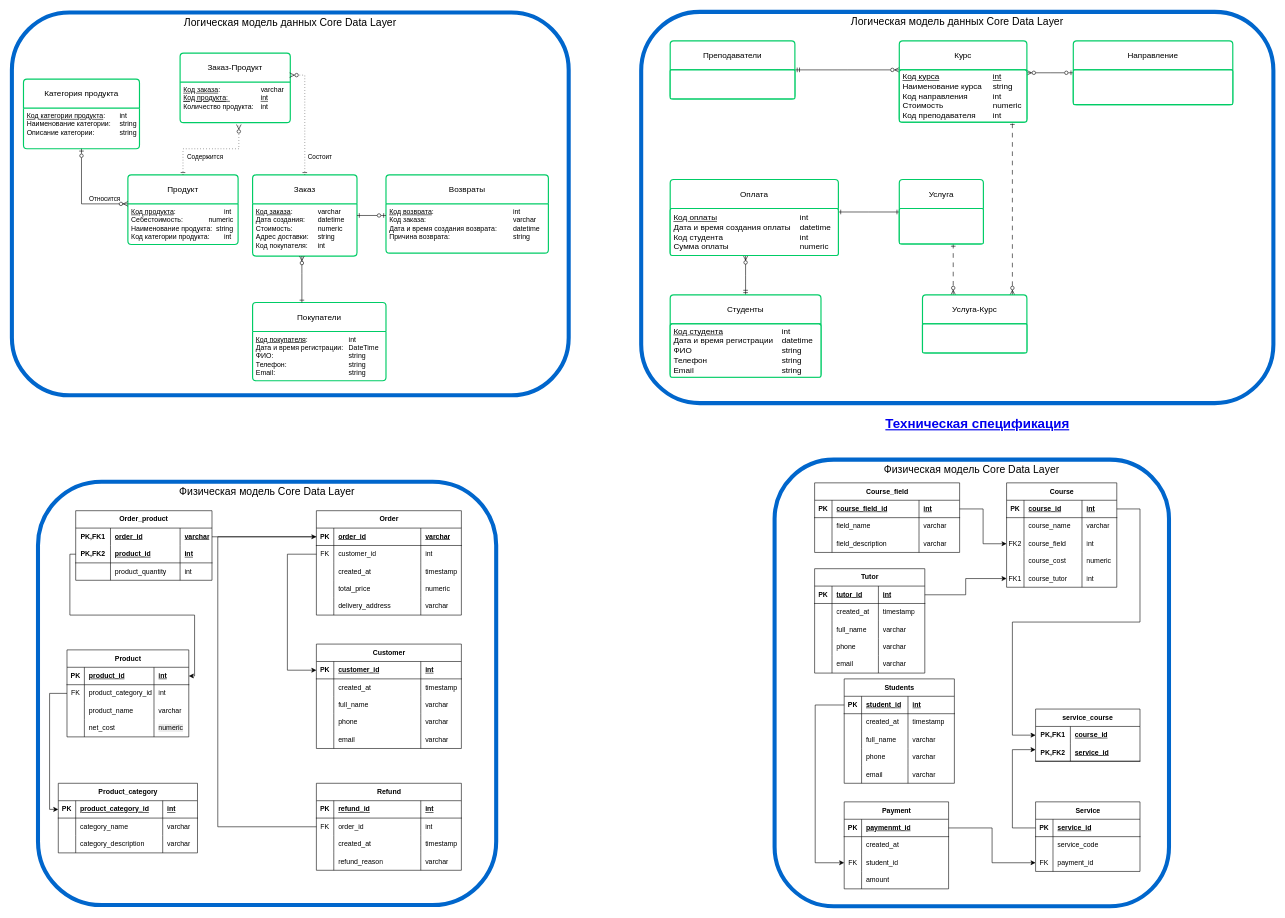
Some shapes in this 1285 by 918 pixel diagram are drawn without their labels. The shapes that lost their labels are listed below. From the top down, each one's centre as x and y in pixels, then its label:
At (x=732, y=84): "Код преподавателя int ФИО string".
At (x=1152, y=87): "Код направления int Наименование направления string Описание направления string".
At (x=941, y=226): "ID услуги int Код услуги string Код оплаты int".
At (x=974, y=338): "Код курса int ID услуги int".
